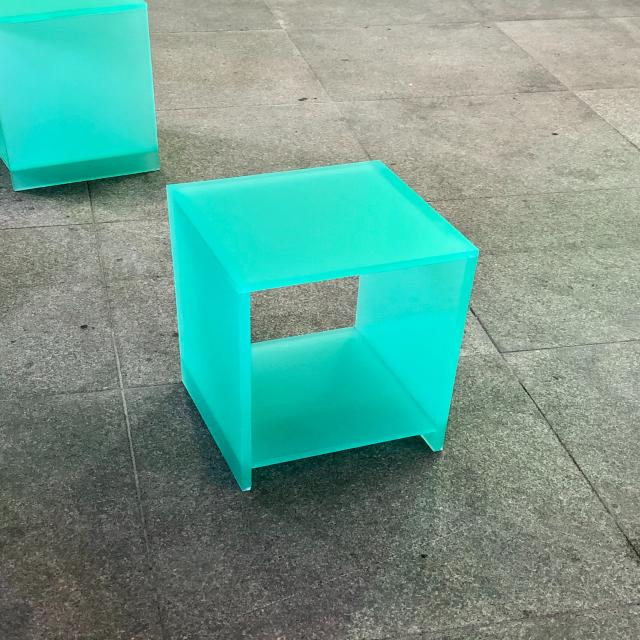Plastic: (90, 151, 534, 515), (0, 0, 169, 185)
